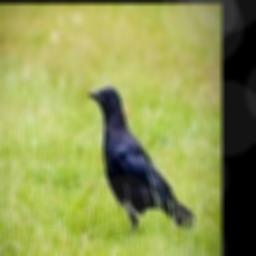Crow: (88, 87, 195, 243)
